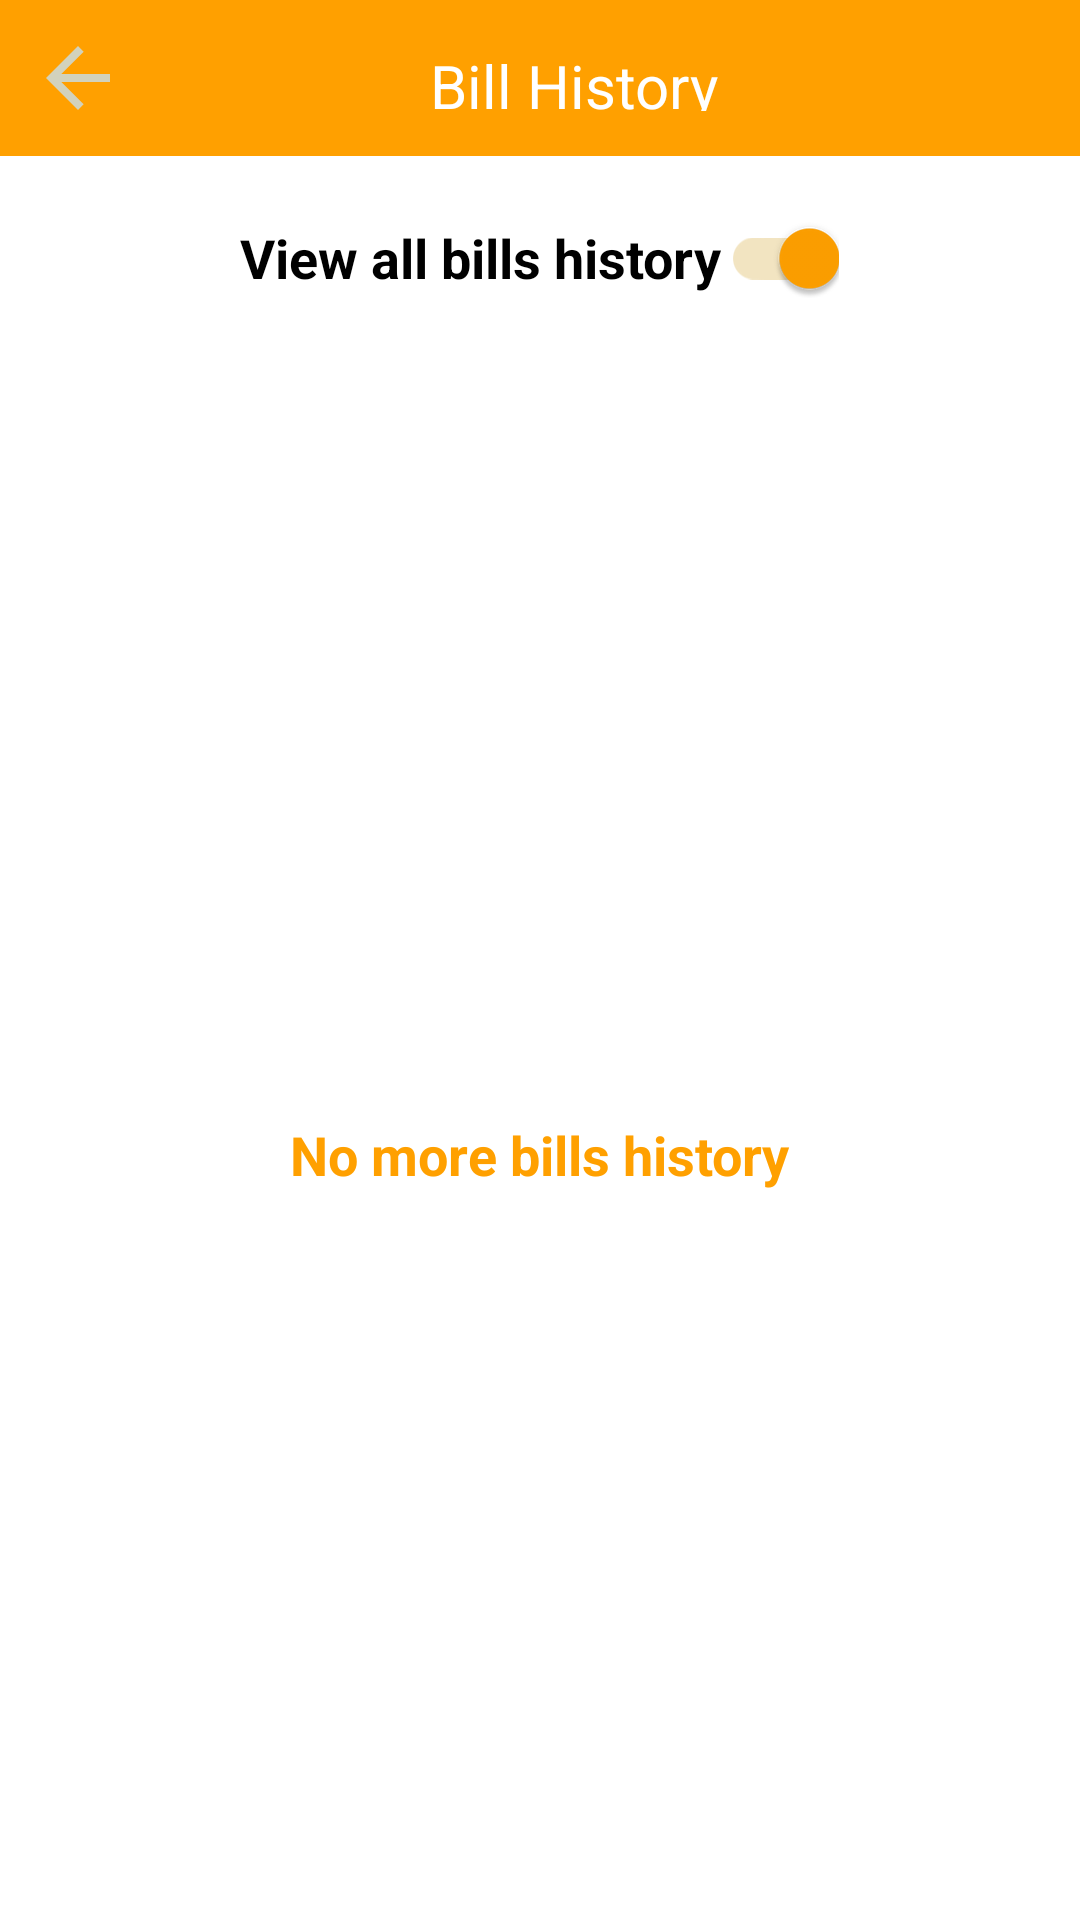

Named icons in this screenshot (1080px x 1920px) and their bounding boxes, (x1, y1, x2, y2):
arrow back: (46, 46, 110, 110)
